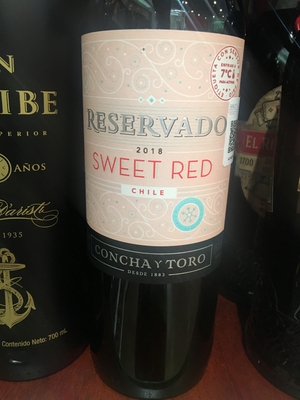reservado sweet red: (80, 2, 249, 349)
